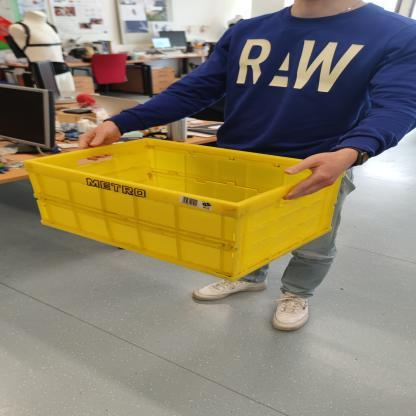-: (19, 132, 351, 280)
